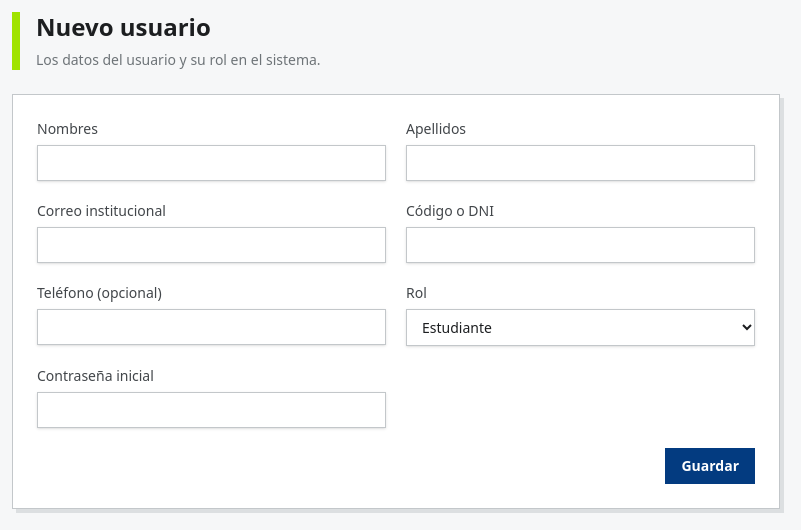
UserFormPage › crea el usuario y vuelve al listado
Type "Ana" into the field labelled "Nombres" at (212, 163), box [37,145,386,181]
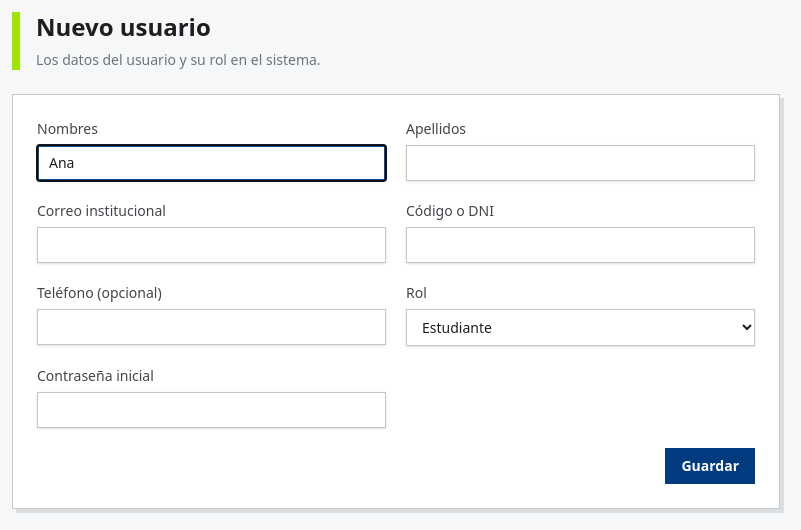
Type "Pérez" into the field labelled "Apellidos" at (580, 163), box [406,145,755,181]
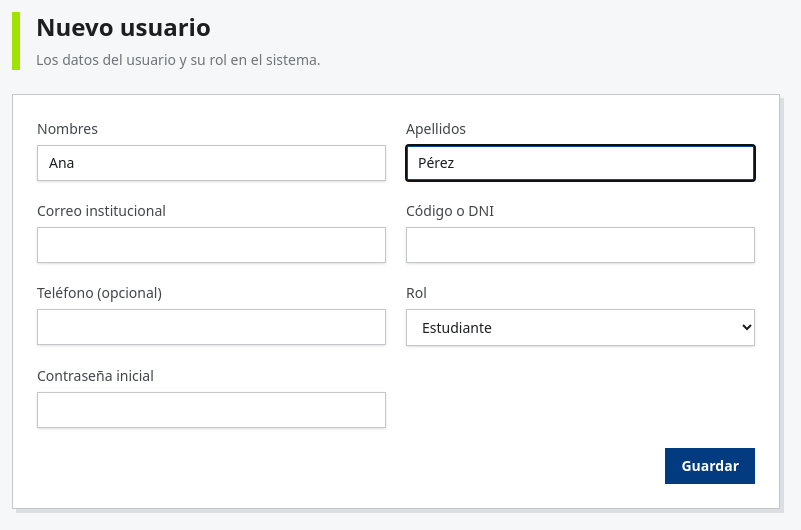
Type "ana@epcc.unsa.edu.pe" into the field labelled "Correo institucional" at (212, 245), box [37,227,386,263]
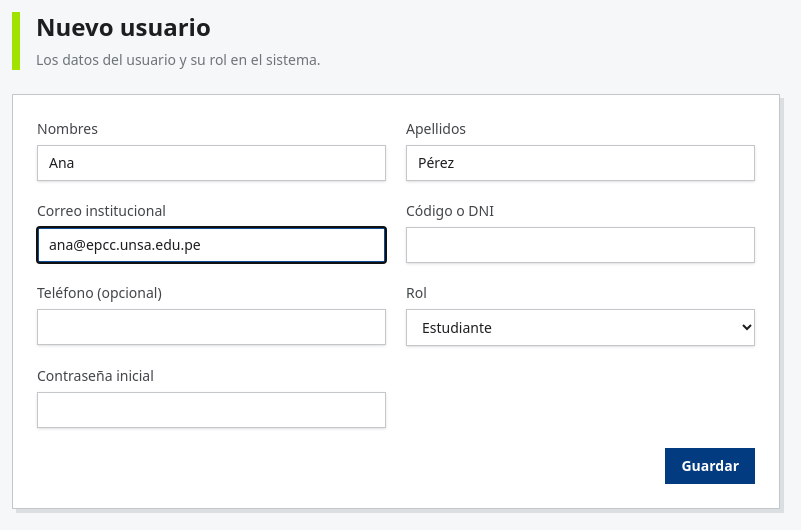
Type "20201234" into the field labelled "Código o DNI" at (580, 245), box [406,227,755,263]
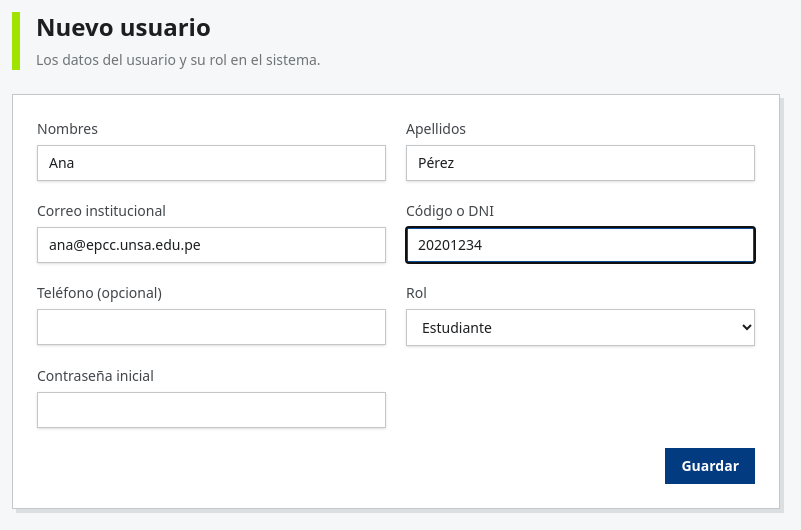
Type "Clave1234" into the password field labelled "Contraseña inicial" at (212, 410), box [37,392,386,428]
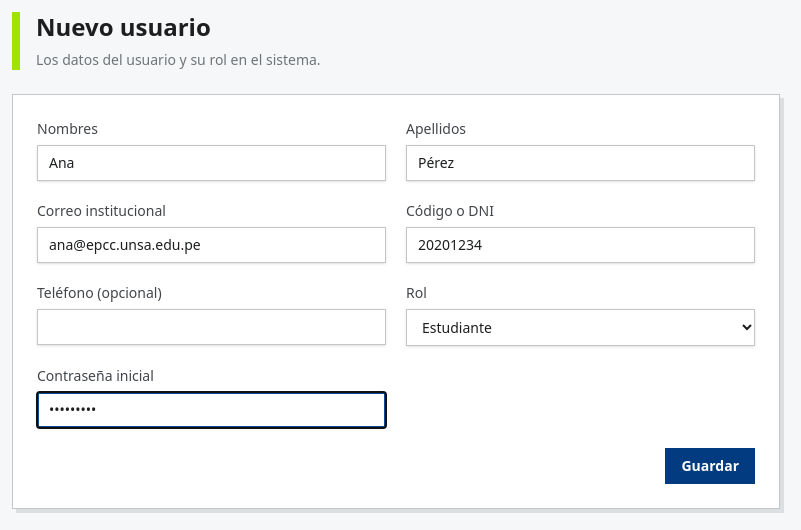
Click the button "Guardar" at (710, 466), box [666,448,755,484]
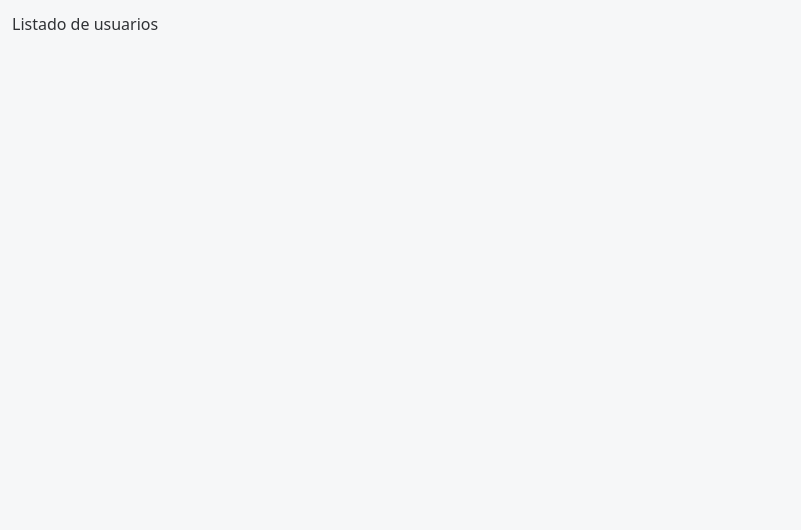
expect the text "Listado de usuarios" is shown: met, box [12,13,158,35]
